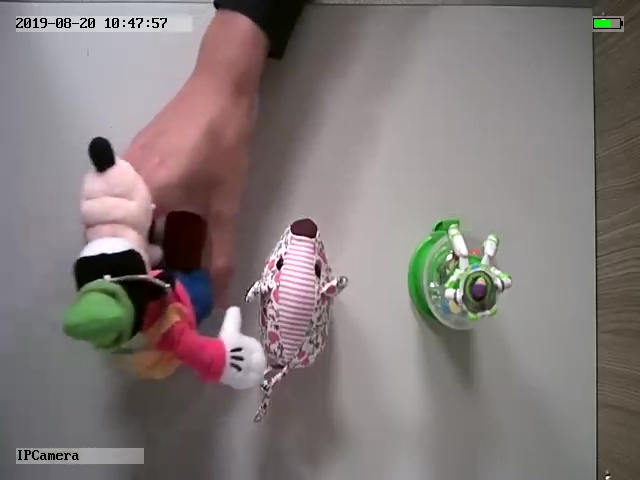buzz: (404, 218, 515, 333)
goofy: (62, 136, 267, 399)
pig: (245, 219, 350, 423)
